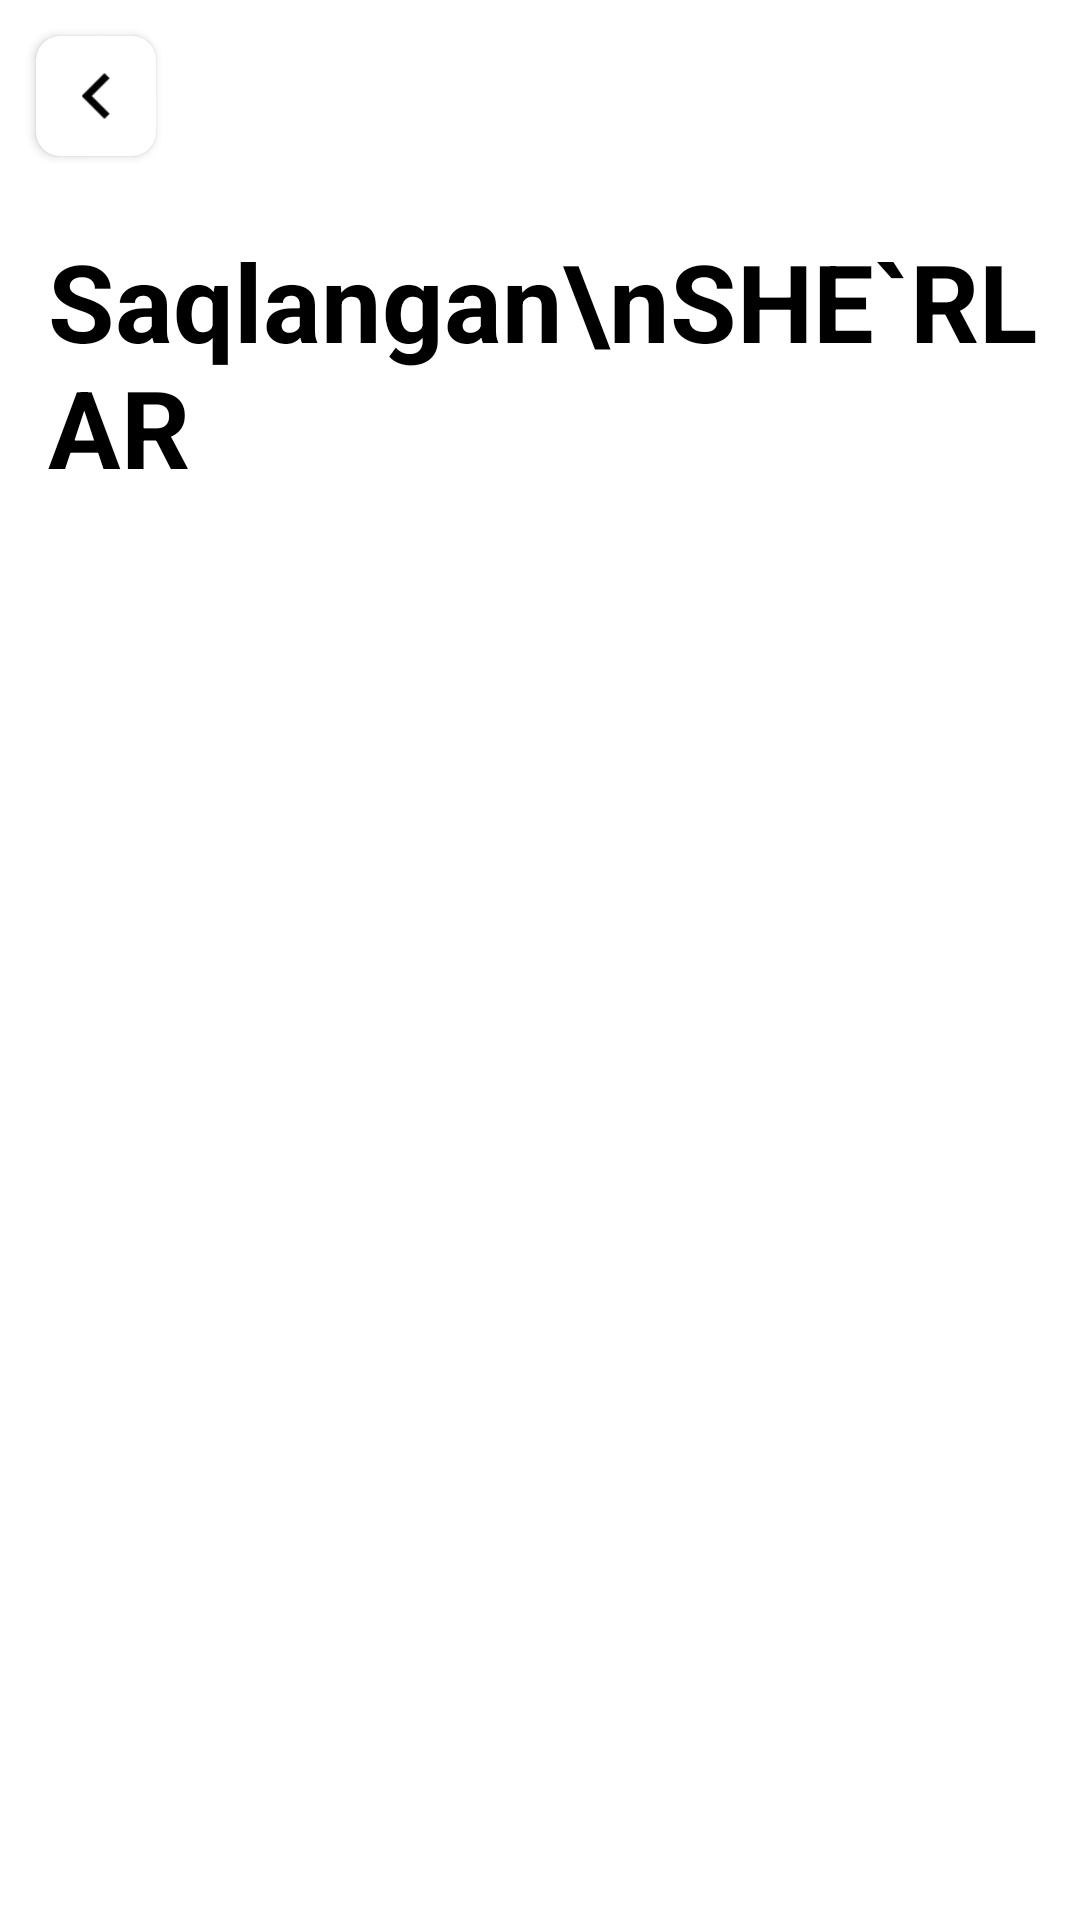

Locate icon controls on the screen. Image size 1080*1920, boxes as detection(x1, y1, x2, y2).
back: detection(36, 36, 110, 156)
